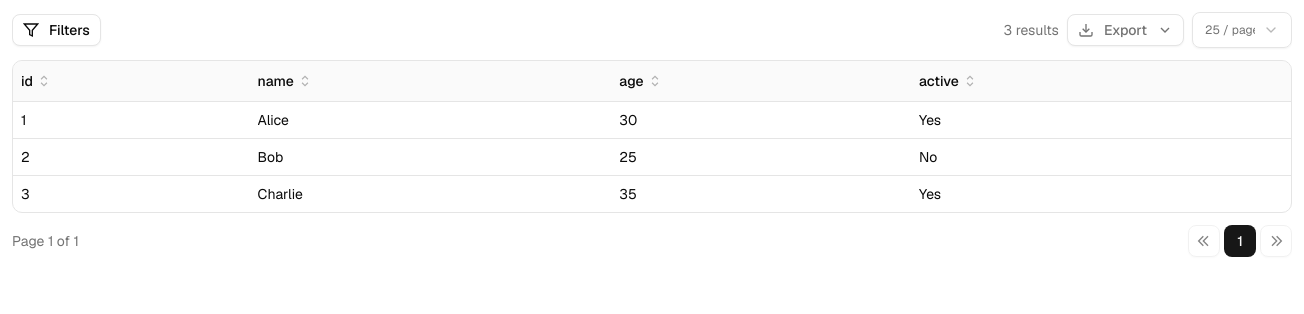
Scenario: DataTable › Filtering › filters data when filter value entered
Click the button "Filters" at point(56, 30), box [12,14,101,46]
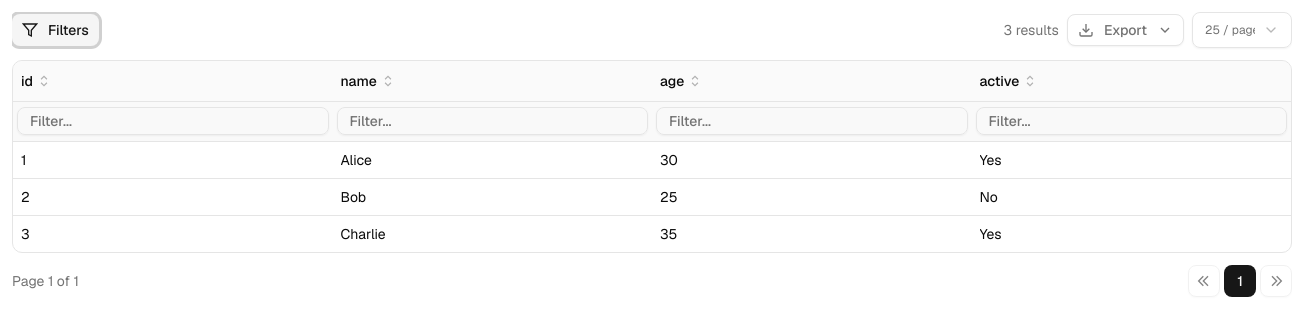
Note: Find filter input for name column
Type "Alice" into the 2nd field with placeholder "Filter..." at point(492, 121), box [336,107,648,135]
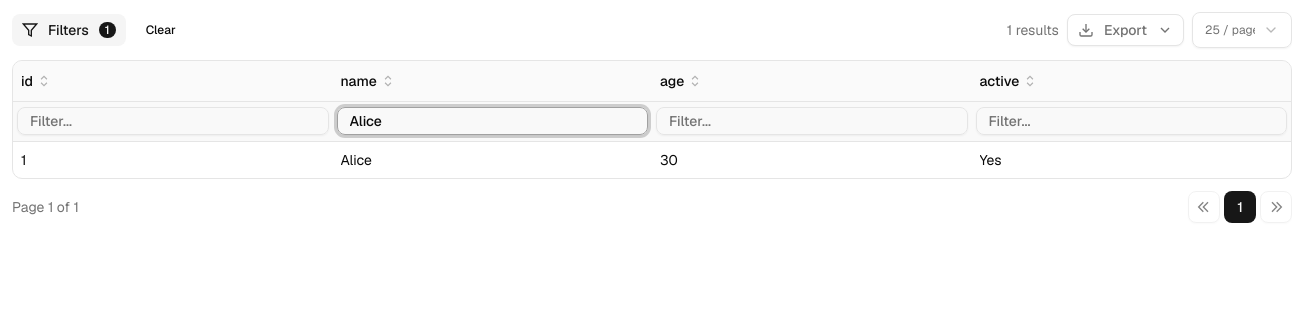
Expected: the text "Alice" is shown, [340,150,372,168]
Now the text "Bob" is gone
